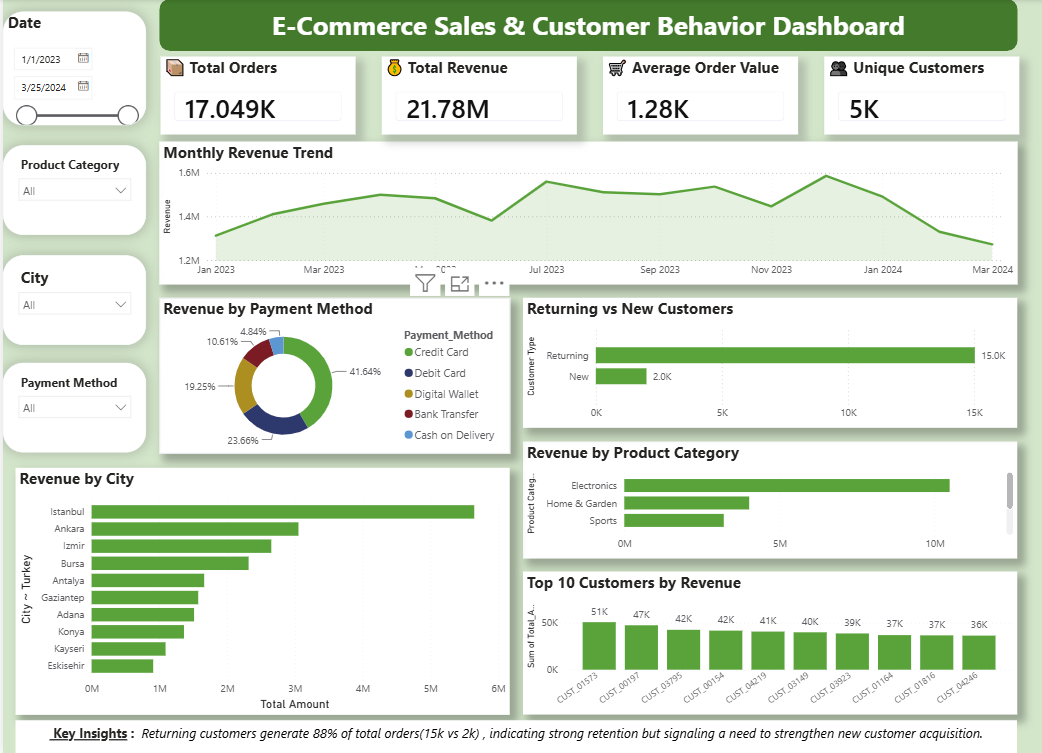

The page's visual inventory and layout, read from the dashboard file:
{"tool":"powerbi","page":{"name":"Page 1","canvas":[1280,930],"ordinal":0},"visuals":[{"type":"cardVisual","title":"📦 Total Orders","fields":{"Data":["Count(ecommerce_customer_behavior_dataset_v2.Order_ID)"]},"box":[193.7,70,240,96],"z":0},{"type":"cardVisual","title":"👥 Unique Customers","fields":{"Data":["Count(ecommerce_customer_behavior_dataset_v2.Customer_ID)"]},"box":[1009.7,70,240,96],"z":1000},{"type":"cardVisual","title":"🛒 Average Order Value","fields":{"Data":["Avg(ecommerce_customer_behavior_dataset_v2.Total_Amount)"]},"box":[737.7,70,240,96],"z":2000},{"type":"lineChart","title":"Monthly Revenue Trend","fields":{"Y":["Sum(ecommerce_customer_behavior_dataset_v2.Total_Amount)"],"Category":["ecommerce_customer_behavior_dataset_v2.Date.Variation.Date Hierarchy.Year","ecommerce_customer_behavior_dataset_v2.Date.Variation.Date Hierarchy.Month"]},"box":[192,176,1056,176],"z":3000},{"type":"clusteredBarChart","title":"Revenue by Product Category","fields":{"Category":["ecommerce_customer_behavior_dataset_v2.Product_Category"],"Y":["Sum(ecommerce_customer_behavior_dataset_v2.Total_Amount)"]},"box":[640,544,608,144],"z":4000},{"type":"donutChart","title":"Revenue by Payment Method","fields":{"Category":["ecommerce_customer_behavior_dataset_v2.Payment_Method"],"Y":["Sum(ecommerce_customer_behavior_dataset_v2.Total_Amount)"]},"box":[192,368,432,192],"z":5000},{"type":"clusteredBarChart","title":"Revenue by City","fields":{"Category":["ecommerce_customer_behavior_dataset_v2.City"],"Y":["Sum(ecommerce_customer_behavior_dataset_v2.Total_Amount)"]},"box":[16,576,608,304],"z":6000},{"type":"slicer","title":"Date","fields":{"Values":["ecommerce_customer_behavior_dataset_v2.Date"]},"box":[0,16,176,140],"z":7000},{"type":"slicer","fields":{"Values":["ecommerce_customer_behavior_dataset_v2.Product_Category"]},"box":[0,180,176,110],"z":8000},{"type":"slicer","fields":{"Values":["ecommerce_customer_behavior_dataset_v2.City"]},"box":[0,315,176,110],"z":9000},{"type":"slicer","fields":{"Values":["ecommerce_customer_behavior_dataset_v2.Payment_Method"]},"box":[0,448,176,110],"z":10000},{"type":"cardVisual","title":"💰 Total Revenue","fields":{"Data":["Sum(ecommerce_customer_behavior_dataset_v2.Total_Amount)"]},"box":[465.7,70,240,96],"z":11000},{"type":"clusteredColumnChart","title":"Top 10 Customers by Revenue","fields":{"Y":["Sum(ecommerce_customer_behavior_dataset_v2.Total_Amount)"],"Category":["ecommerce_customer_behavior_dataset_v2.Customer_ID"]},"box":[640,704,608,176],"z":12000},{"type":"barChart","title":"Returning vs New Customers","fields":{"Category":["ecommerce_customer_behavior_dataset_v2.Customer Type","ecommerce_customer_behavior_dataset_v2.Is_Returning_Customer"],"Y":["CountNonNull(ecommerce_customer_behavior_dataset_v2.Customer_ID)"]},"box":[640,368,608,160],"z":13000},{"type":"shape","box":[192,0,1056,64],"z":14000},{"type":"textbox","box":[16,888,1232,112],"z":15000}]}

Visuals, with their boxes in screenshot pixels (x1, y1, x2, y2), scaled from the page's 1280x930 canvas onto the 1042x753 screenshot:
"📦 Total Orders" cardVisual: locate(158, 57, 353, 134)
"👥 Unique Customers" cardVisual: locate(822, 57, 1017, 134)
"🛒 Average Order Value" cardVisual: locate(601, 57, 796, 134)
"Monthly Revenue Trend" lineChart: locate(156, 143, 1016, 285)
"Revenue by Product Category" clusteredBarChart: locate(521, 440, 1016, 557)
"Revenue by Payment Method" donutChart: locate(156, 298, 508, 453)
"Revenue by City" clusteredBarChart: locate(13, 466, 508, 713)
"Date" slicer: locate(0, 13, 143, 126)
slicer - ecommerce_customer_behavior_dataset_v2.Product_Category: locate(0, 146, 143, 235)
slicer - ecommerce_customer_behavior_dataset_v2.City: locate(0, 255, 143, 344)
slicer - ecommerce_customer_behavior_dataset_v2.Payment_Method: locate(0, 363, 143, 452)
"💰 Total Revenue" cardVisual: locate(379, 57, 574, 134)
"Top 10 Customers by Revenue" clusteredColumnChart: locate(521, 570, 1016, 713)
"Returning vs New Customers" barChart: locate(521, 298, 1016, 428)
shape: locate(156, 0, 1016, 52)
textbox: locate(13, 719, 1016, 752)
